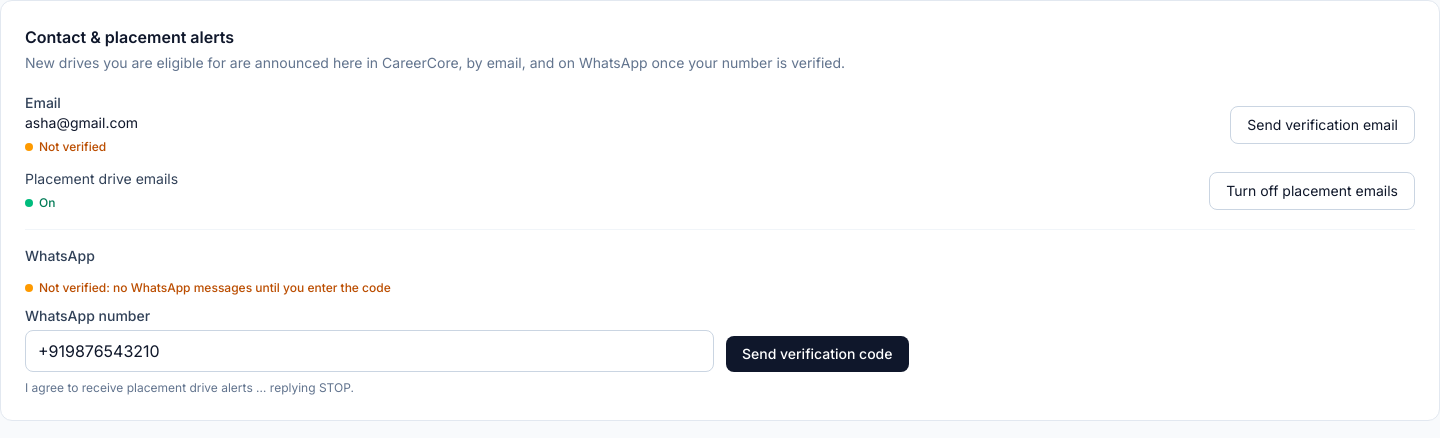
contact & alerts section › unverified number: consent shown, code sent, entered, and WhatsApp alerts become active
The width and height of the screenshot is (1440, 438).
Expected: the text "asha@gmail.com" is shown, [25,113,138,133]
Expected: the text "Not verified" is shown, [25,139,106,155]
Click the button "Send verification code" at (817, 354), box [726,336,908,372]
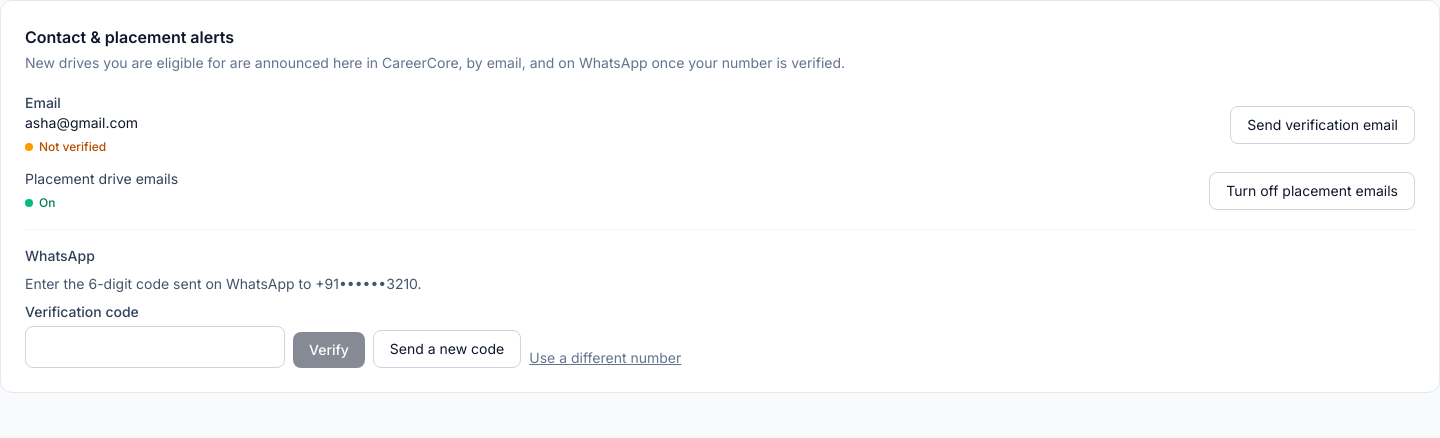
Expected: the text "Enter the 6-digit code sent on WhatsApp to +91••••••3210." is shown, [25,275,422,292]
Expected: the button "Verify" is disabled, [293,332,365,368]
Type "12a34 56" into the field labelled "Verification code" at (155, 347), box [25,326,285,368]
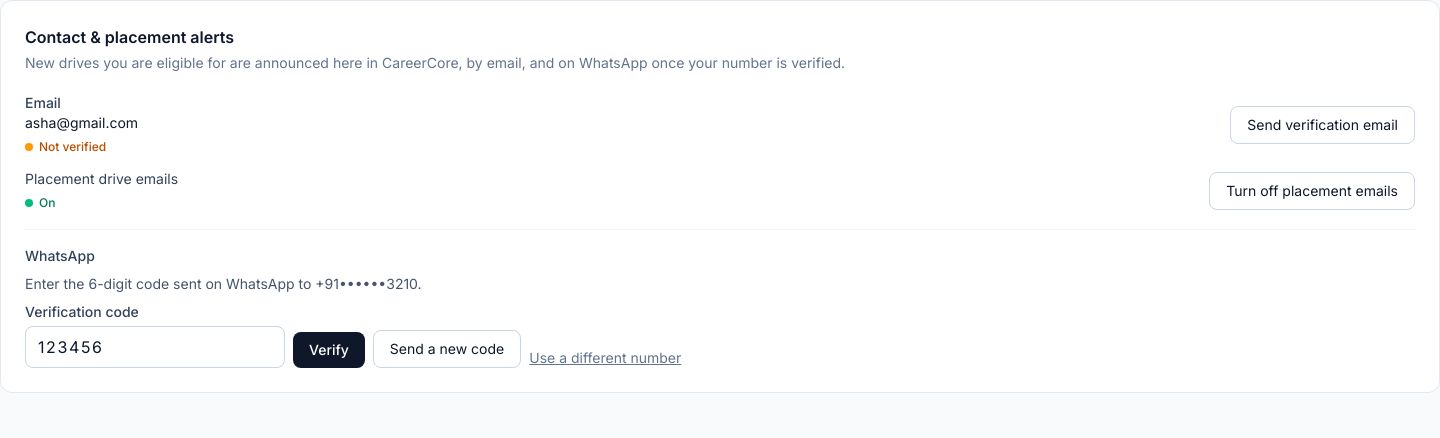
Expected: the field labelled "Verification code" holds "123456", [25,326,285,368]
Click the button "Verify" at (329, 350), box [293,332,365,368]
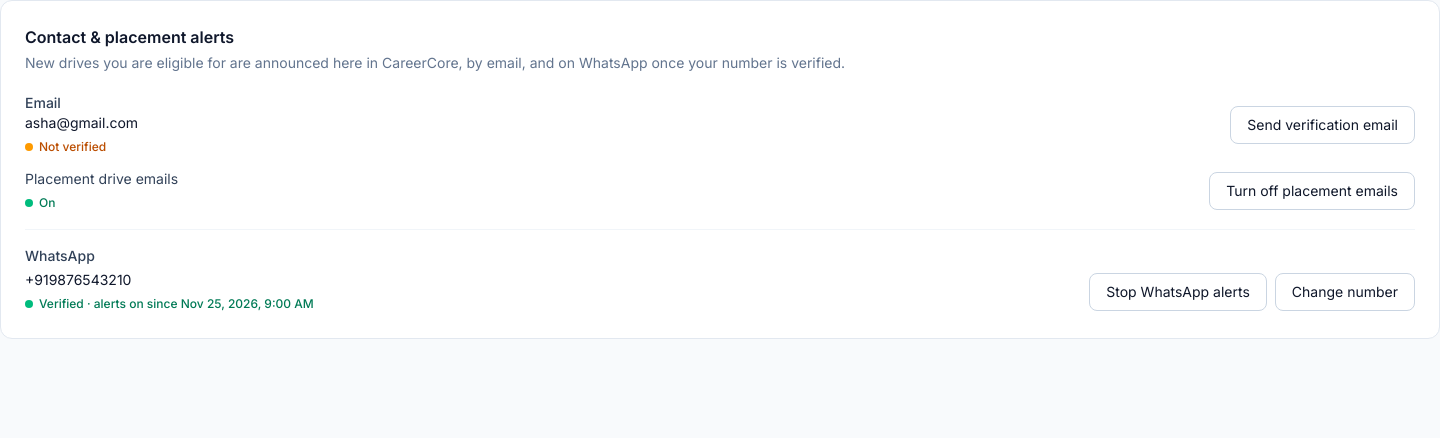
Expected: the text "Verified · alerts on since Nov 25, 2026, 9:00 AM" is shown, [25,296,314,312]
Expected: the button "Stop WhatsApp alerts" is shown, [1089,273,1267,311]
